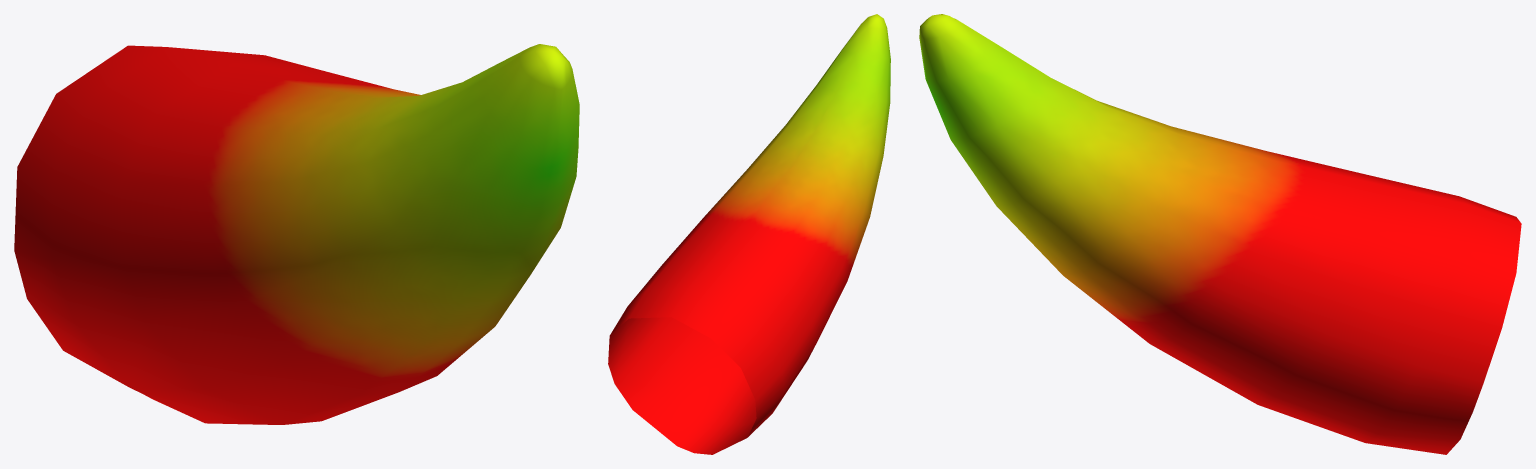
Rendered from Outfit_Head_UniHorn_High_Group29027.obj.
The picture shows the model from 3 angles, left to right: view 1: azimuth 30°, elevation 25°; view 2: azimuth 150°, elevation 25°; view 3: azimuth 270°, elevation 25°; orthographic projection. The views are drawn at different scales.
Visible parts, largest first — view 1: Outfit_Head_UniHorn_High_Group29027_0; view 2: Outfit_Head_UniHorn_High_Group29027_0; view 3: Outfit_Head_UniHorn_High_Group29027_0.
Boxes of the visible parts, x1,y1,x2,y2 form: Outfit_Head_UniHorn_High_Group29027_0: (14, 44, 579, 424); Outfit_Head_UniHorn_High_Group29027_0: (608, 14, 890, 454); Outfit_Head_UniHorn_High_Group29027_0: (919, 14, 1521, 454).
Bounding box in the file's own units: 0.0402 × 0.0756 × 0.0959.
Materials: 1 (1 with a texture image).
